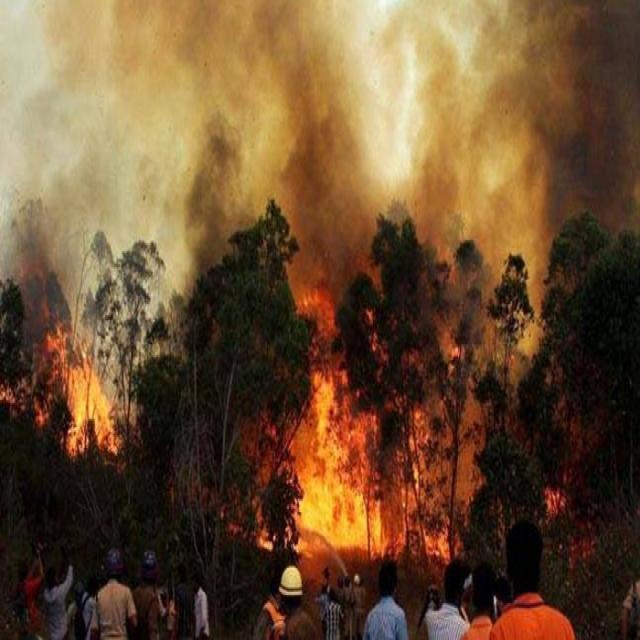Fire: (346, 306, 472, 559), (292, 366, 388, 554), (39, 330, 123, 463), (529, 468, 581, 525), (5, 365, 47, 432)
Smoke: (6, 0, 640, 242)
